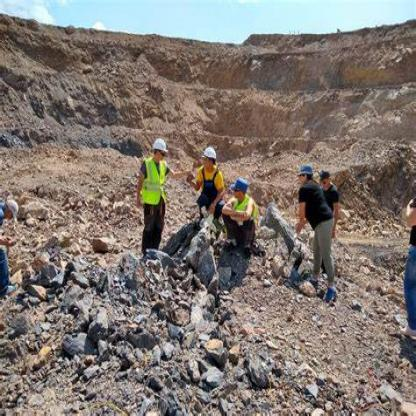person: (292, 148, 348, 309), (219, 172, 270, 280), (139, 125, 176, 258), (188, 143, 215, 212)
